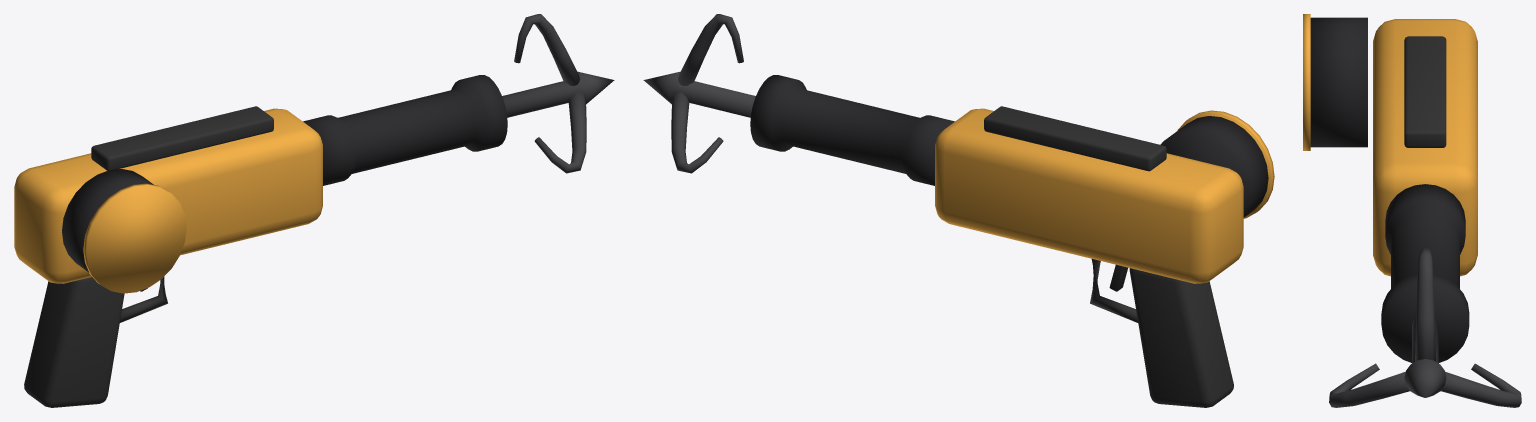
The model's file is SM_Grapple.glb.
3 renders of one model, left to right at view 1: azimuth 30°, elevation 25°; view 2: azimuth 150°, elevation 25°; view 3: azimuth 270°, elevation 25°, orthographic. The views are drawn at different scales.
Visible parts, largest first — view 1: SM_Grapple; view 2: SM_Grapple; view 3: SM_Grapple.
Part boxes in pixels (x1,y1,x2,y2): SM_Grapple: (14, 14, 614, 407); SM_Grapple: (643, 14, 1274, 407); SM_Grapple: (1303, 14, 1521, 407).
Bounding box in the file's own units: 0.42 × 0.1867 × 0.1144.
